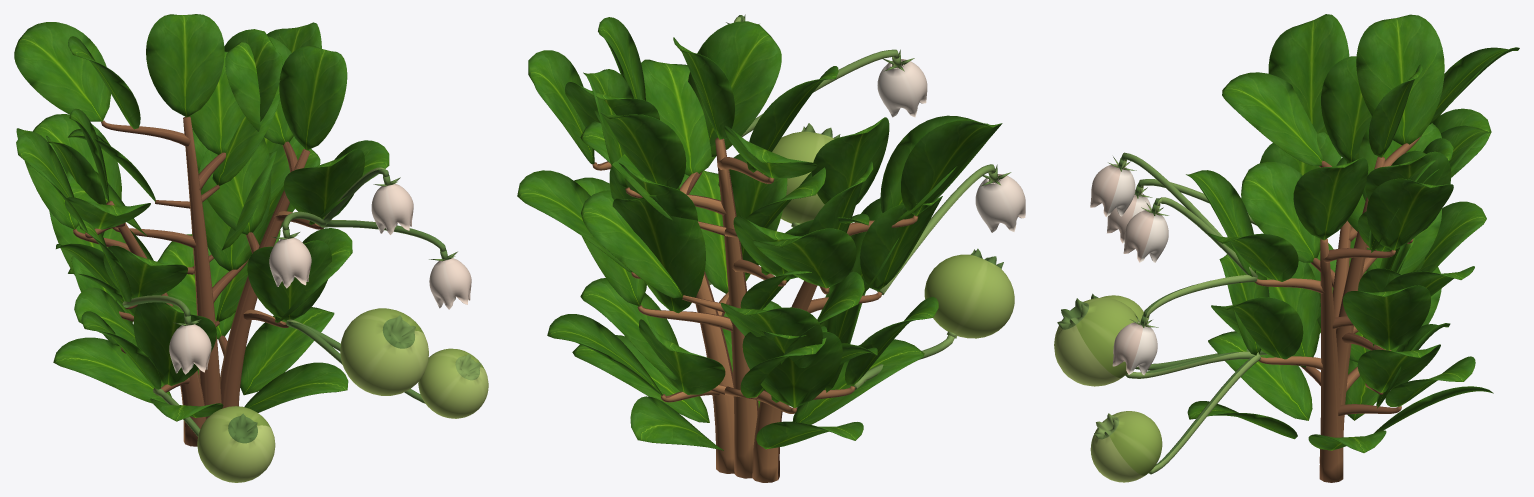
The model's file is NP_Blueberry_Flowering.fbx.
3 renders of one model, left to right at view 1: azimuth 30°, elevation 25°; view 2: azimuth 150°, elevation 25°; view 3: azimuth 270°, elevation 25°, orthographic. The views are drawn at different scales.
Parts seen in each view (by area): view 1: NP_Blueberry_Flowering; view 2: NP_Blueberry_Flowering; view 3: NP_Blueberry_Flowering.
Boxes of the visible parts, left/top/right/bottom form: NP_Blueberry_Flowering: left=14, top=14, right=488, bottom=482; NP_Blueberry_Flowering: left=517, top=14, right=1025, bottom=482; NP_Blueberry_Flowering: left=1054, top=14, right=1519, bottom=482.
Size of the model in its own units: 80.61 by 80.44 by 84.07.
